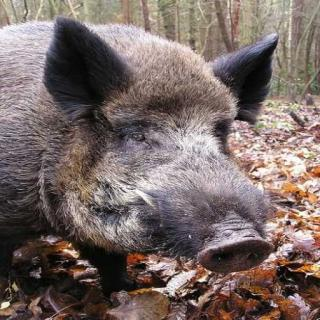Pig: (0, 5, 319, 299)
